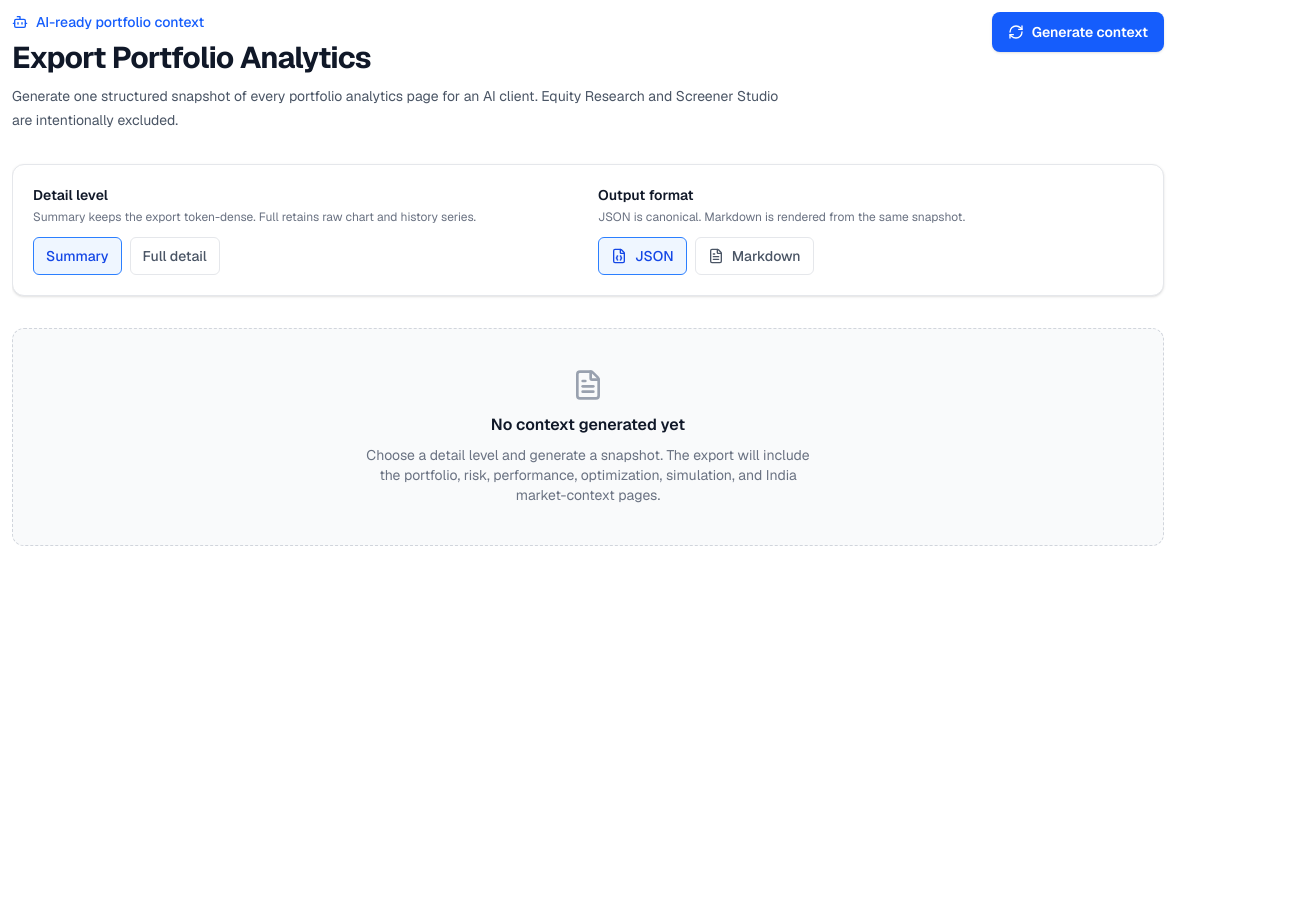
AI context export page › generates a JSON context and shows section status
What coordinates should you click on to do the following:
click the button with test id "generate-ai-context"
I would click on:
 (1078, 32)
Its box is [992, 12, 1164, 52].
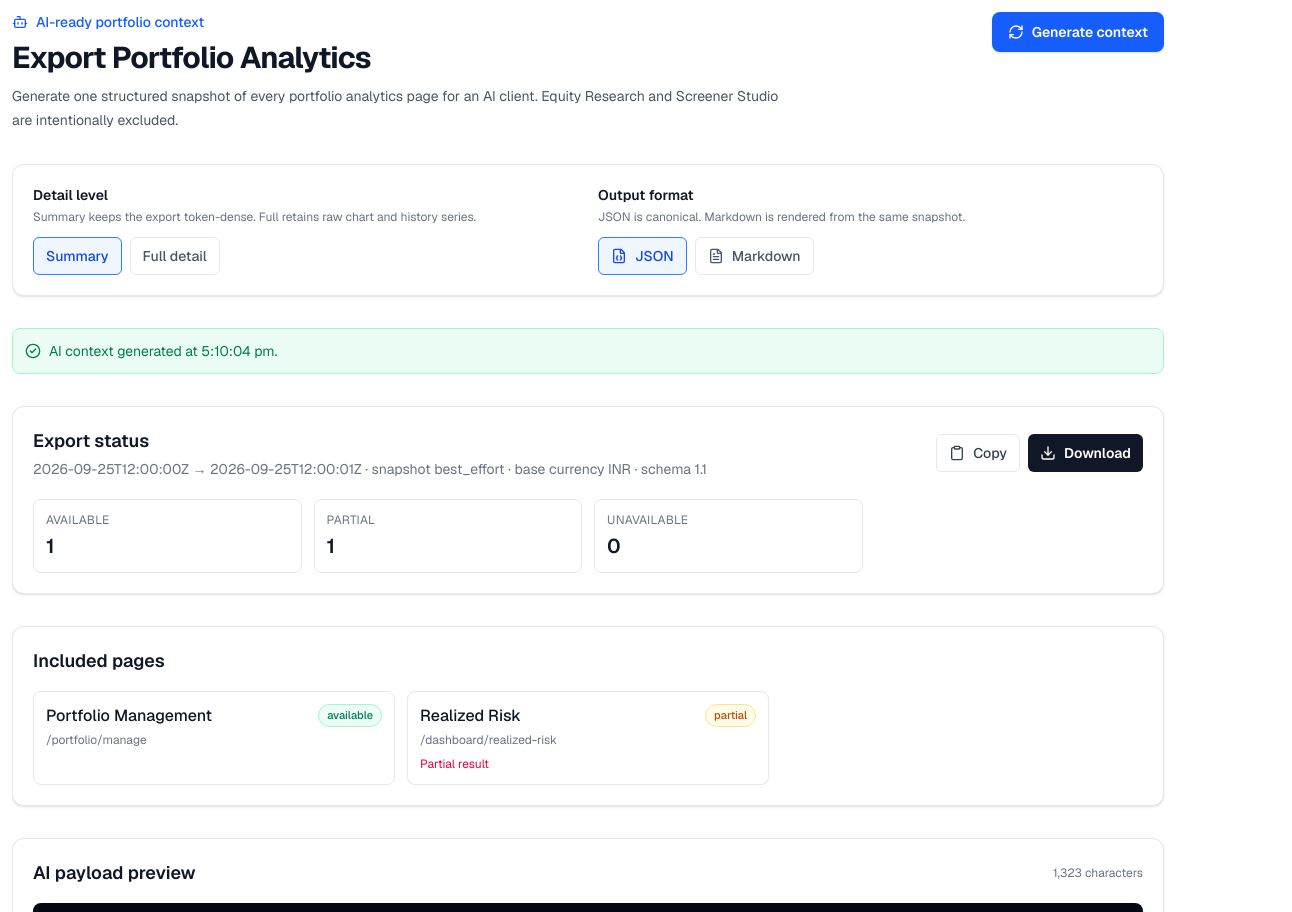
Now the heading "Export status" is shown, box [33, 429, 149, 452]
Now the text "Portfolio Management" is shown, box [46, 704, 212, 728]
Now the text "partial" next to "unavailable" is shown, box [326, 512, 375, 528]
